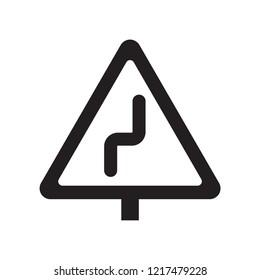Right Reverse Bend: (24, 35, 249, 225)
